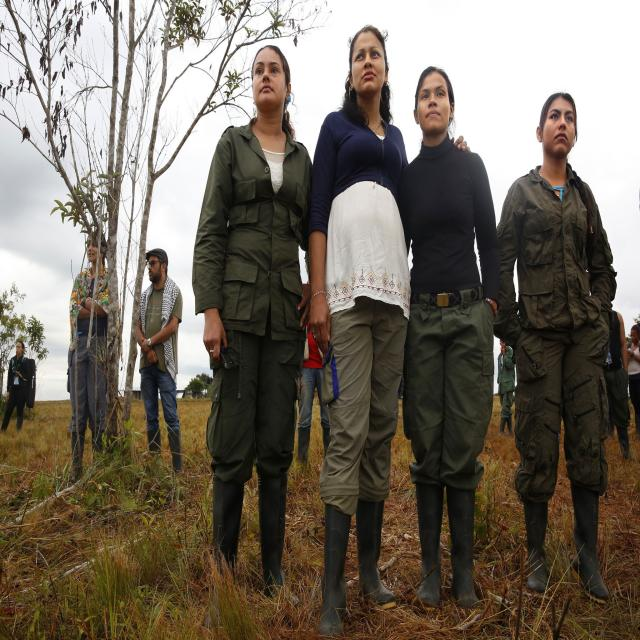body: (302, 21, 473, 640), (190, 42, 352, 614), (373, 64, 504, 622), (484, 88, 620, 611), (137, 248, 186, 478), (66, 230, 109, 485), (296, 262, 332, 475), (602, 310, 636, 462), (0, 340, 32, 435), (495, 331, 516, 439), (626, 322, 640, 439)
